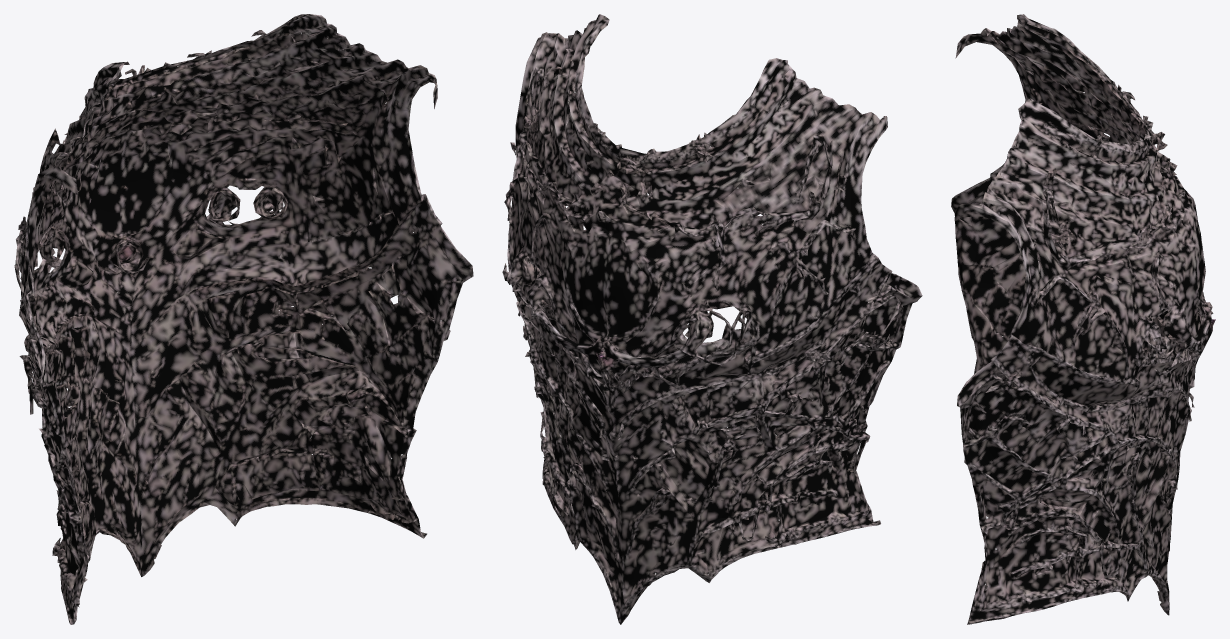
Rendered from vampire_chestplate_LOD0.glb.
3 renders of one model, left to right at view 1: azimuth 30°, elevation 25°; view 2: azimuth 150°, elevation 25°; view 3: azimuth 270°, elevation 25°, orthographic. The views are drawn at different scales.
Parts seen in each view (by area): view 1: vampire_chestplate_LOD0; view 2: vampire_chestplate_LOD0; view 3: vampire_chestplate_LOD0.
Boxes of the visible parts, <box> form: vampire_chestplate_LOD0: <box>14,14,473,624</box>; vampire_chestplate_LOD0: <box>502,14,922,624</box>; vampire_chestplate_LOD0: <box>951,14,1215,624</box>.
Bounding box in the file's own units: 0.5929 × 0.7733 × 0.3327.
Materials: 1 (1 with a texture image).
